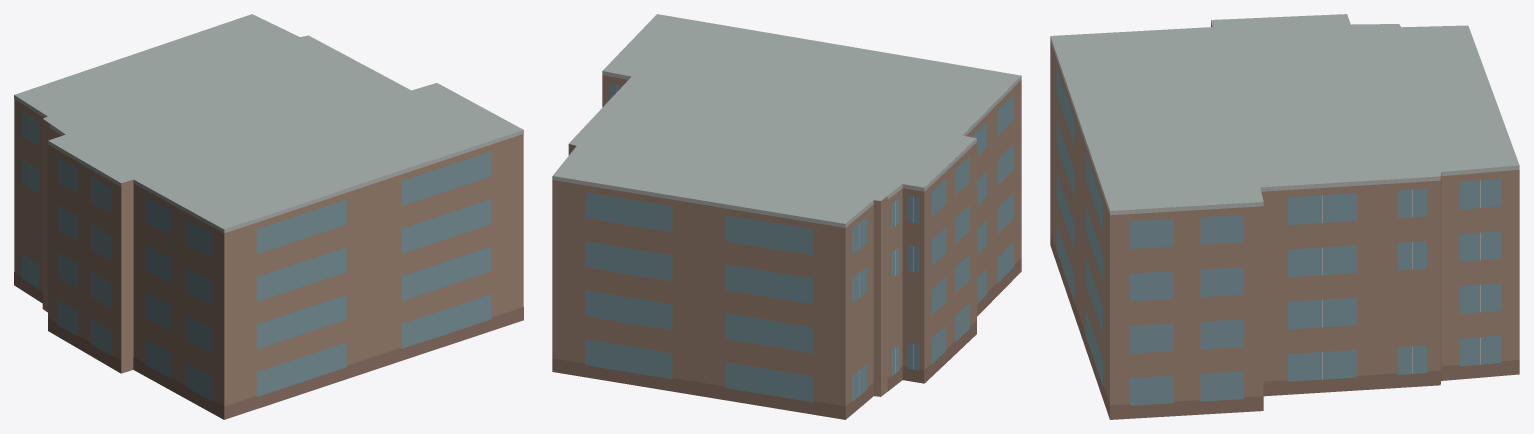
File: survey-upis-32931270.glb
3 views of the same model, side by side, from view 1: azimuth 30°, elevation 25°; view 2: azimuth 150°, elevation 25°; view 3: azimuth 270°, elevation 25° (orthographic). The views are drawn at different scales.
Parts seen in each view (by area): view 1: survey-upis-32931270.tmp; view 2: survey-upis-32931270.tmp; view 3: survey-upis-32931270.tmp.
Part boxes in pixels (box(x1,y1,x2,y2)): survey-upis-32931270.tmp: box(14, 14, 523, 419); survey-upis-32931270.tmp: box(552, 14, 1021, 419); survey-upis-32931270.tmp: box(1050, 14, 1519, 419).
Bounding box in the file's own units: 24.07 × 11.9 × 24.24.
